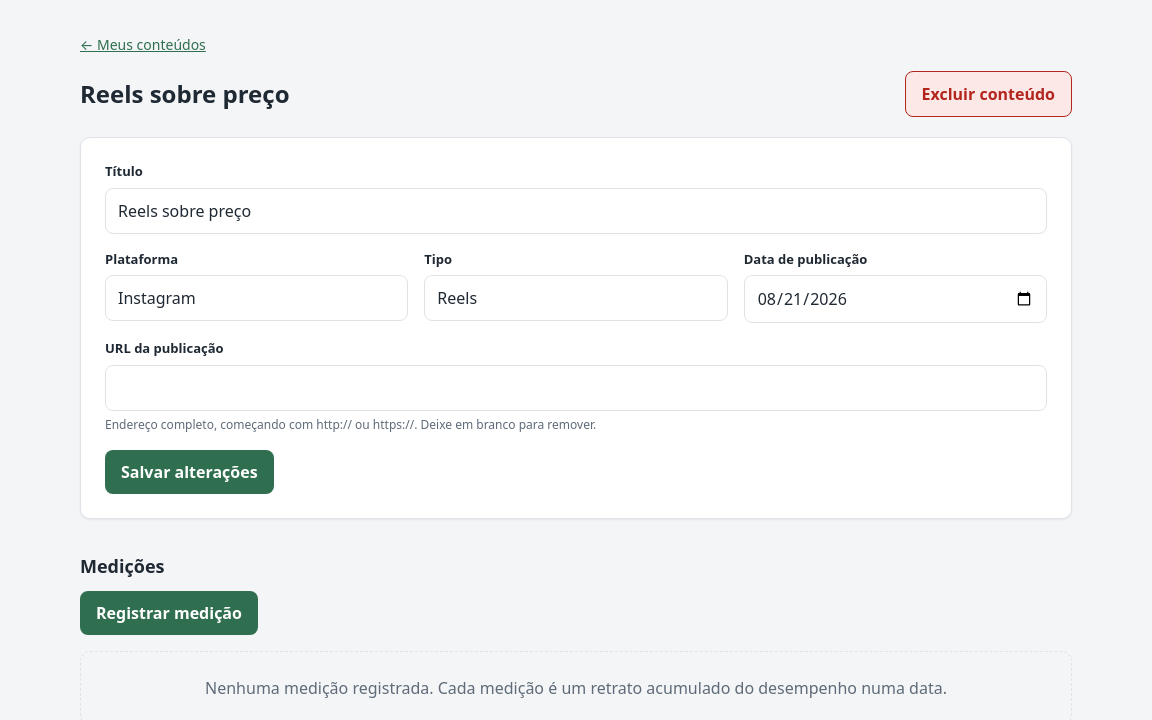
Test: ConteudoDetalhe › pede confirmação antes de excluir o conteúdo
Click the button "Excluir conteúdo": (988, 94) [905,71,1072,117]
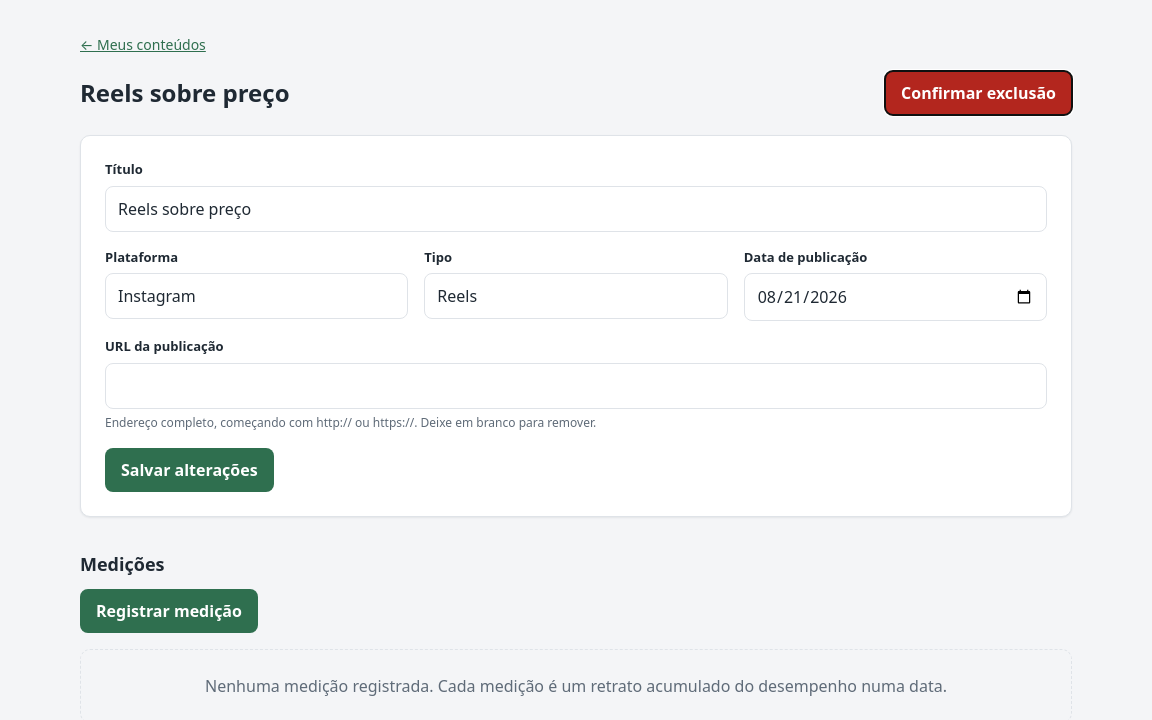
Result: the button "Confirmar exclusão" is shown at [885,71,1072,115]
